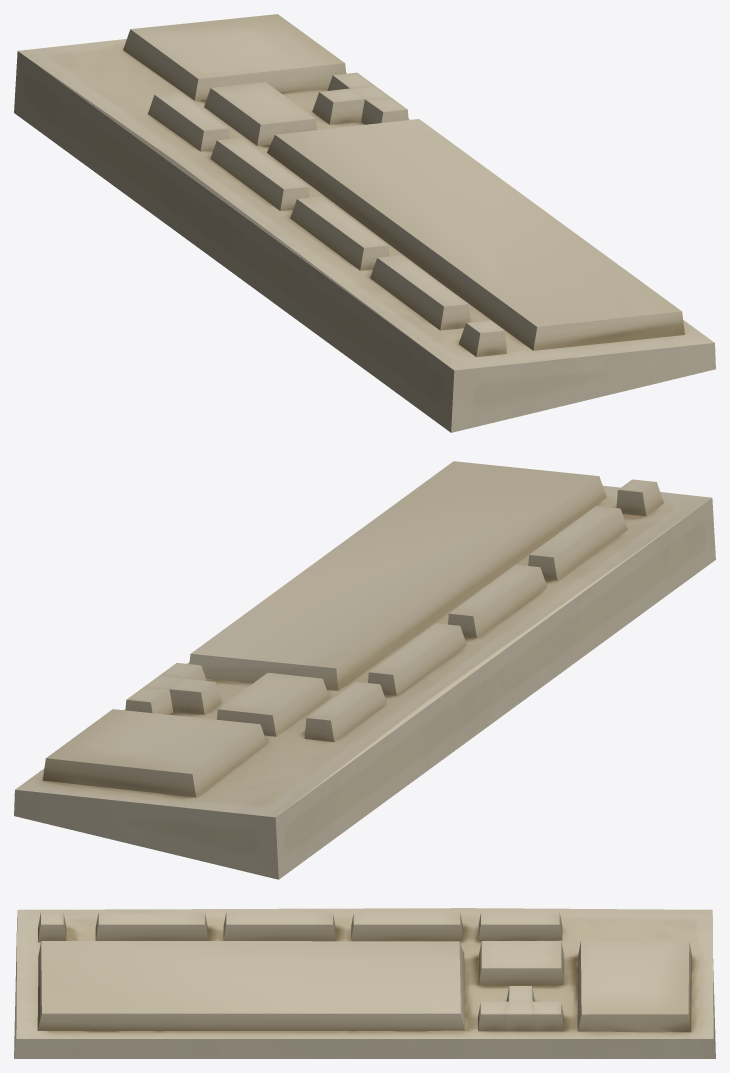
Rendered from Keyboard_LOD2.fbx.
The picture shows the model from 3 angles, top to bottom: view 1: azimuth 30°, elevation 25°; view 2: azimuth 150°, elevation 25°; view 3: azimuth 270°, elevation 25°; orthographic projection. The views are drawn at different scales.
Visible parts, largest first — view 1: Keybaord_LOD2; view 2: Keybaord_LOD2; view 3: Keybaord_LOD2.
Part boxes in pixels (x1,y1,x2,y2): Keybaord_LOD2: [14, 14, 715, 432]; Keybaord_LOD2: [14, 461, 715, 879]; Keybaord_LOD2: [14, 908, 715, 1058].
Bounding box in the file's own units: 29.78 × 8.42 × 86.3.
